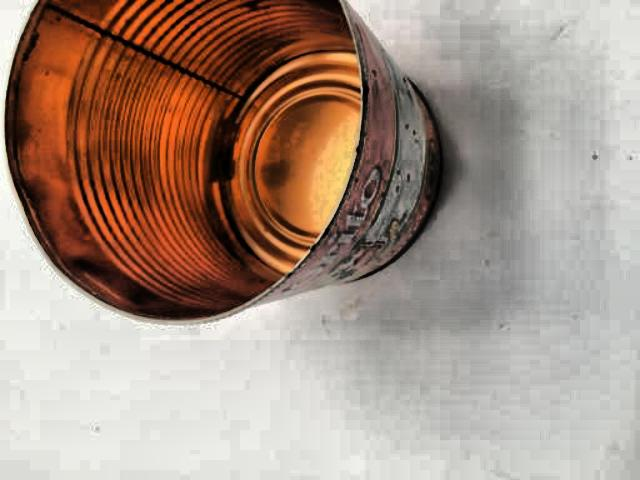Almennt: (0, 1, 464, 339)
